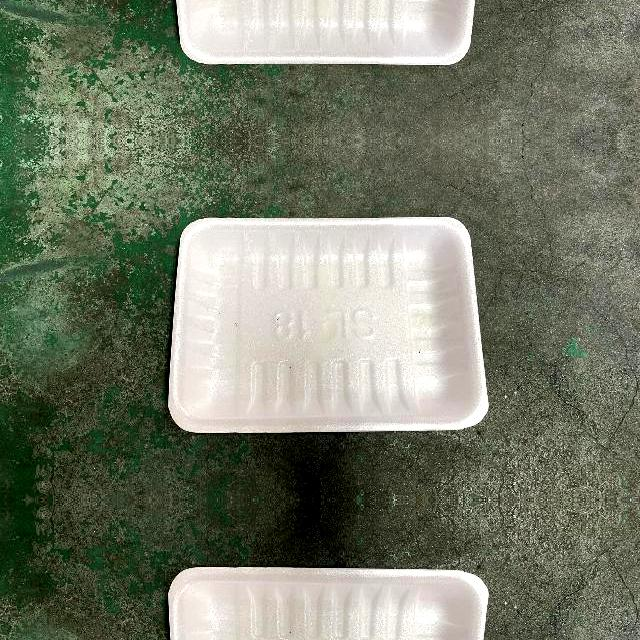Styrofoam: (168, 215, 488, 431), (169, 216, 488, 432), (169, 566, 488, 640), (168, 567, 488, 640), (168, 0, 488, 65), (176, 0, 475, 64)
